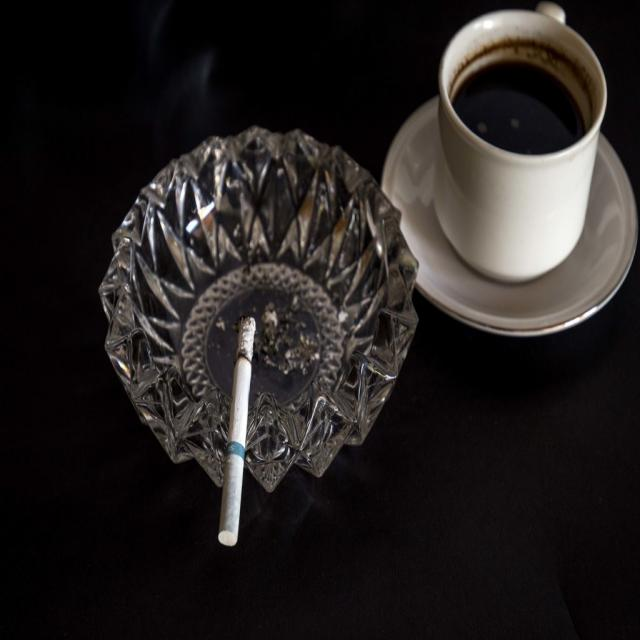Coffee: (406, 4, 612, 278)
Tea: (448, 41, 594, 158)
